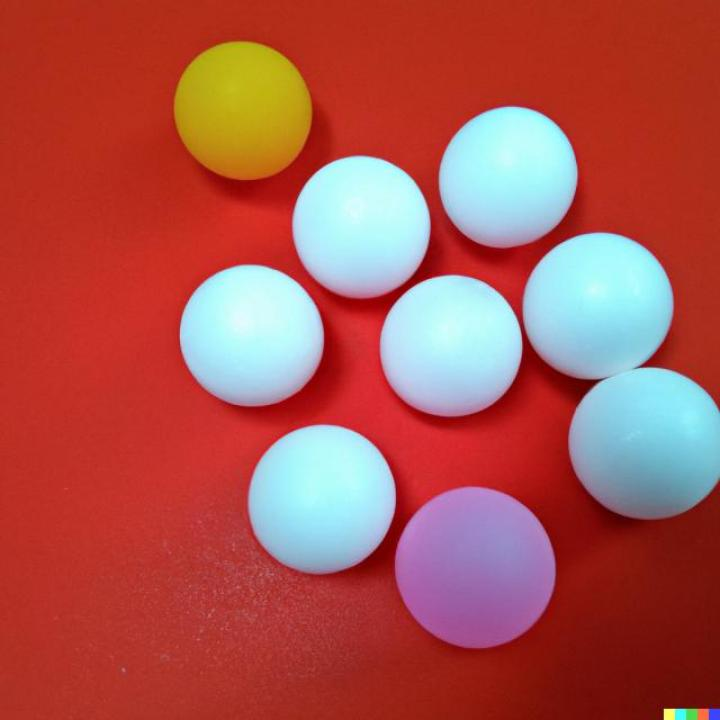white: (568, 366, 720, 520), (246, 424, 397, 576), (523, 232, 674, 380), (179, 264, 325, 410), (378, 275, 524, 418), (291, 154, 430, 298), (438, 105, 577, 248)
